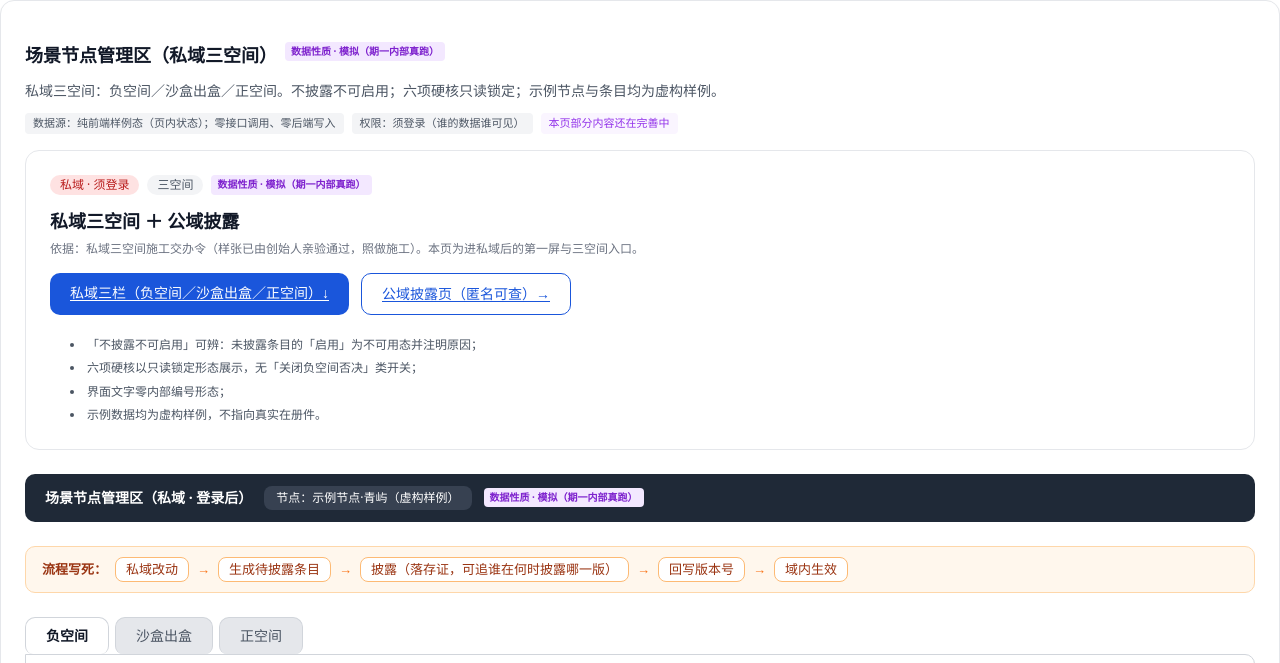
Test: 私域三空间页：入口＋流程条＋三栏切换 › 三栏可切换：负空间 → 沙盒出盒 → 正空间
Click the tab with test id "me-node-tab-sandbox".
click(164, 636)  # box [115, 617, 213, 654]
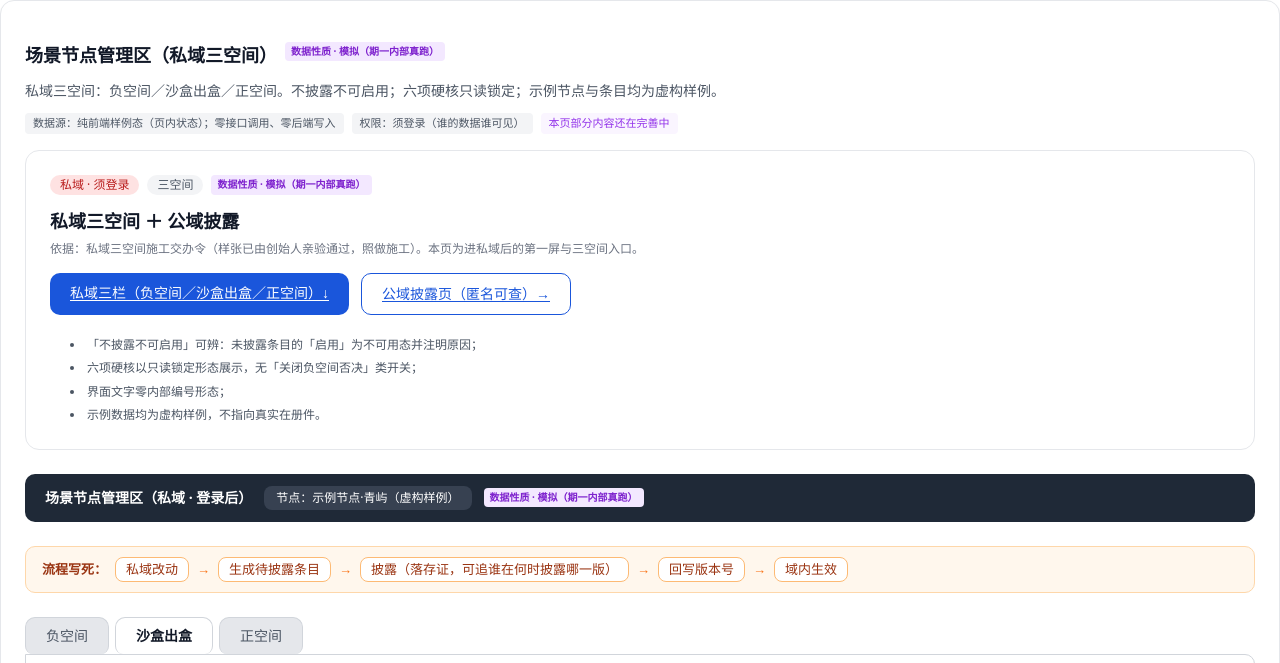
Click the tab with test id "me-node-tab-pos".
click(261, 636)  # box [219, 617, 303, 654]
(page scrolled)
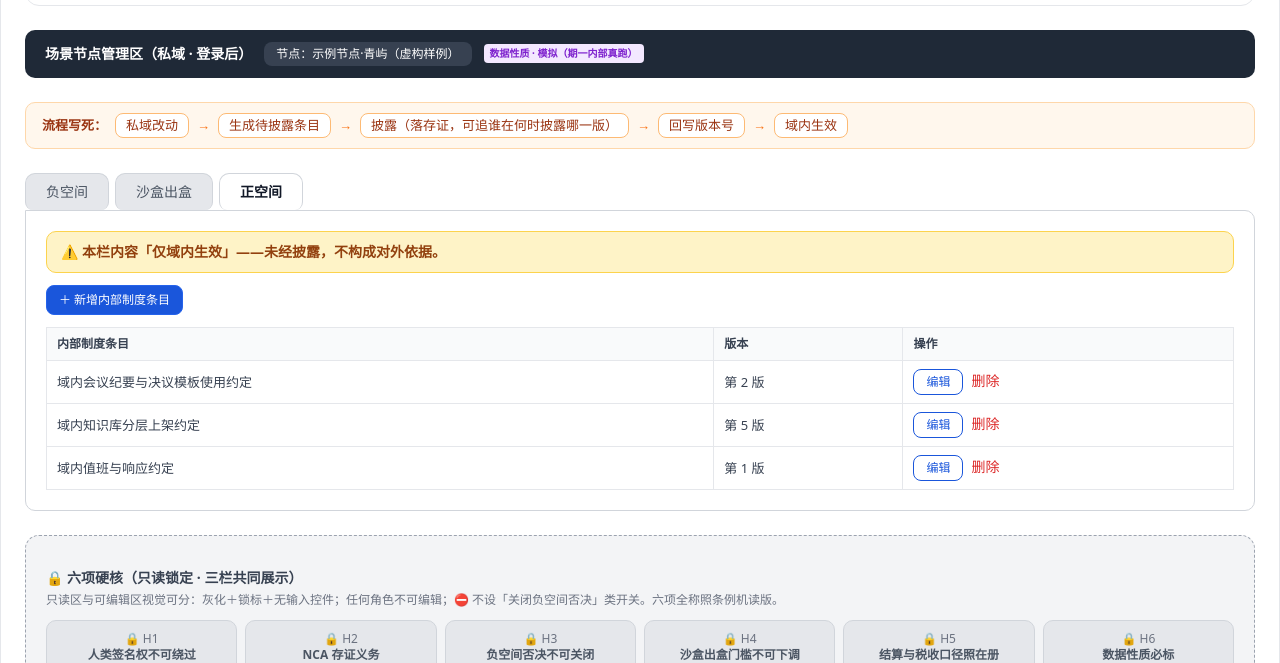
expect the panel with test id "me-node-panel-pos" is shown: met, box [25, 210, 1255, 511]
expect the panel with test id "me-node-panel-pos" shows "本栏内容「仅域内生效」——未经披露，不构成对外依据。": met, box [61, 242, 446, 261]
